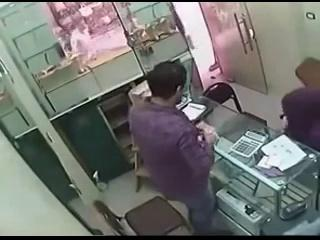Normal: (128, 62, 219, 232)
